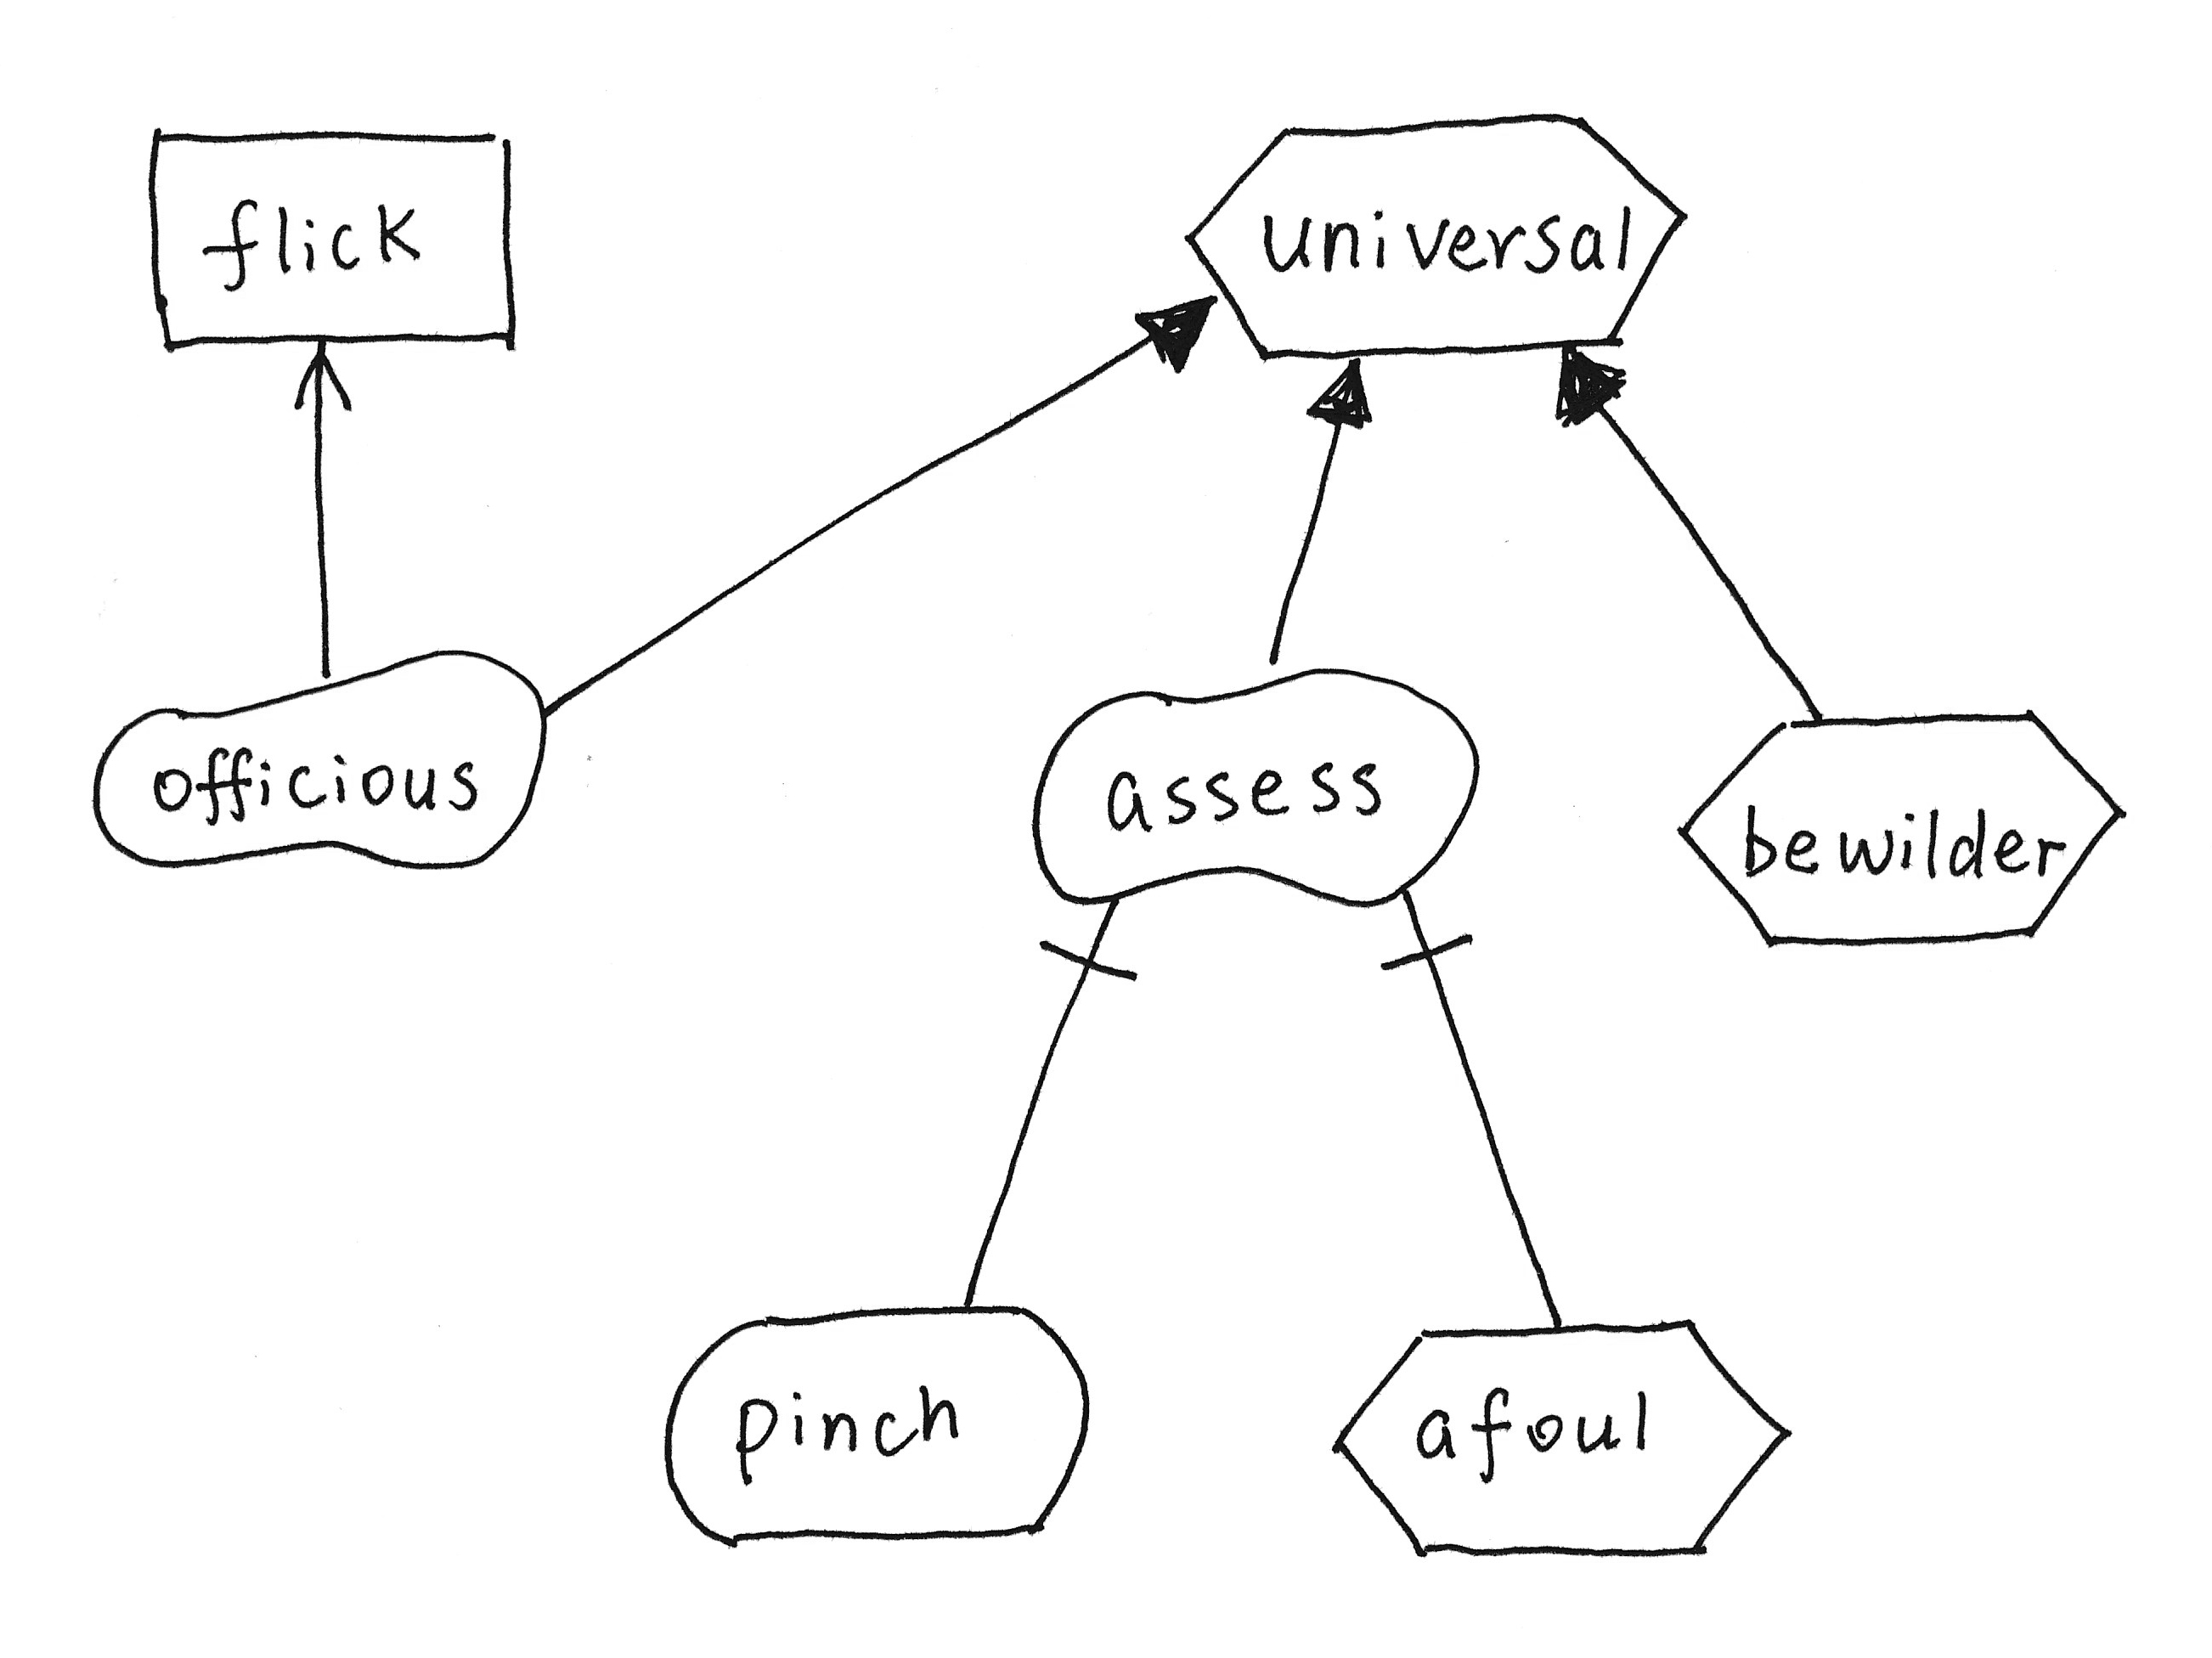and: (1353, 873, 1486, 986), (1026, 888, 1157, 991)
arrow: (266, 324, 369, 423)
goal: (641, 1282, 1118, 1560)
or: (1120, 275, 1245, 381), (1531, 327, 1644, 439), (1284, 345, 1397, 444)
quality: (1008, 643, 1494, 918), (68, 625, 564, 881)
resource: (129, 111, 550, 366)
task: (1170, 96, 1702, 385), (1322, 1299, 1801, 1580), (1658, 693, 2141, 965)
